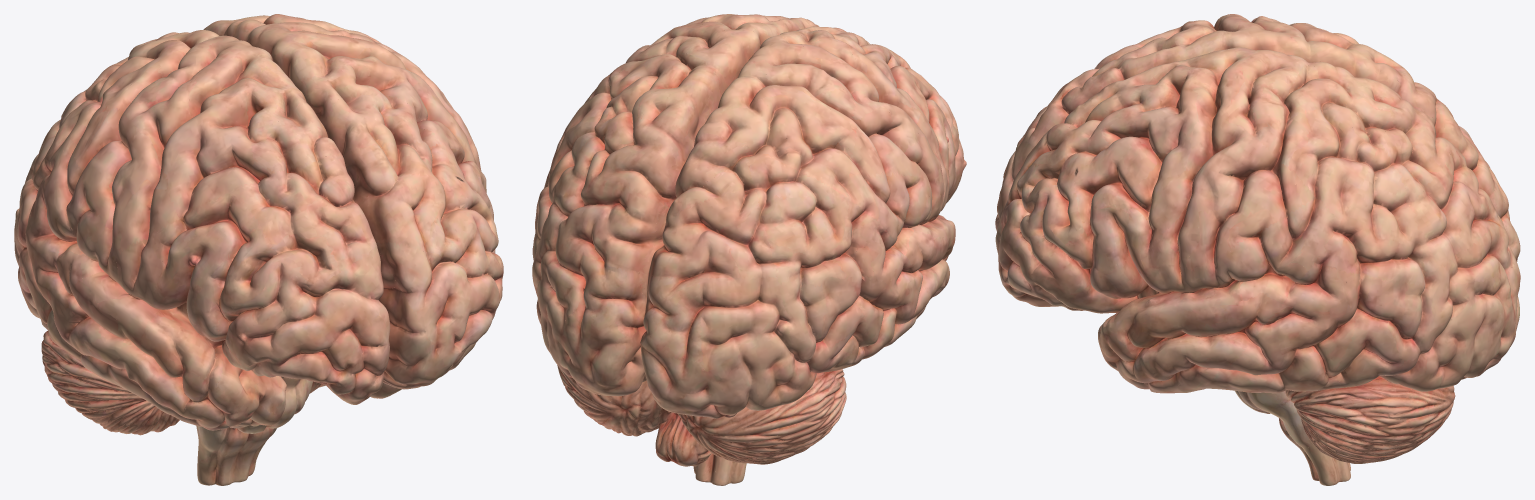
File: cerebro.glb
The picture shows the model from 3 angles, left to right: view 1: azimuth 30°, elevation 25°; view 2: azimuth 150°, elevation 25°; view 3: azimuth 270°, elevation 25°; orthographic projection. The views are drawn at different scales.
Parts seen in each view (by area): view 1: human-brain; view 2: human-brain; view 3: human-brain.
Boxes of the visible parts, x1,y1,x2,y2 form: human-brain: (14, 14, 503, 485); human-brain: (532, 14, 966, 485); human-brain: (995, 14, 1520, 485).
Size of the model in its own units: 0.1375 by 0.1549 by 0.17.
1 material, 1 textured.
